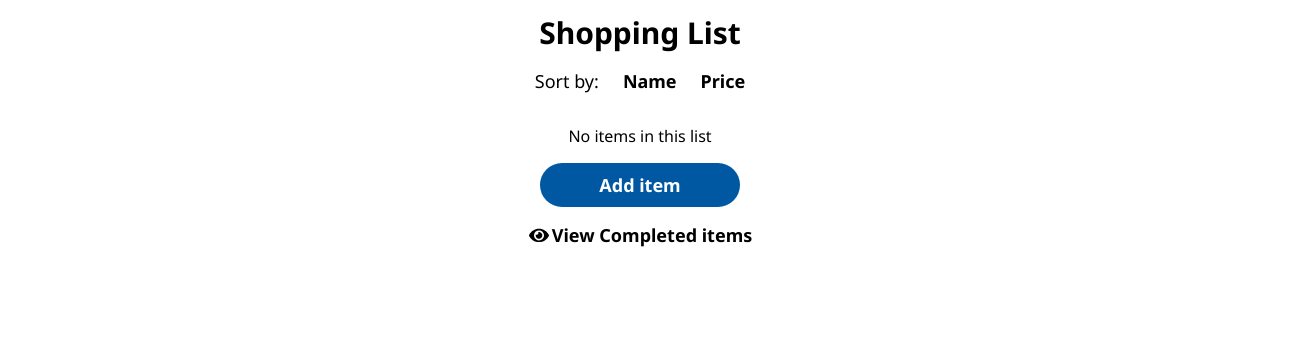
Verify that show completed items button, expands the completed list
This screenshot has width=1292, height=356.
Click the button "View Completed items": (640, 235) top-left (528, 223), bottom-right (752, 247)
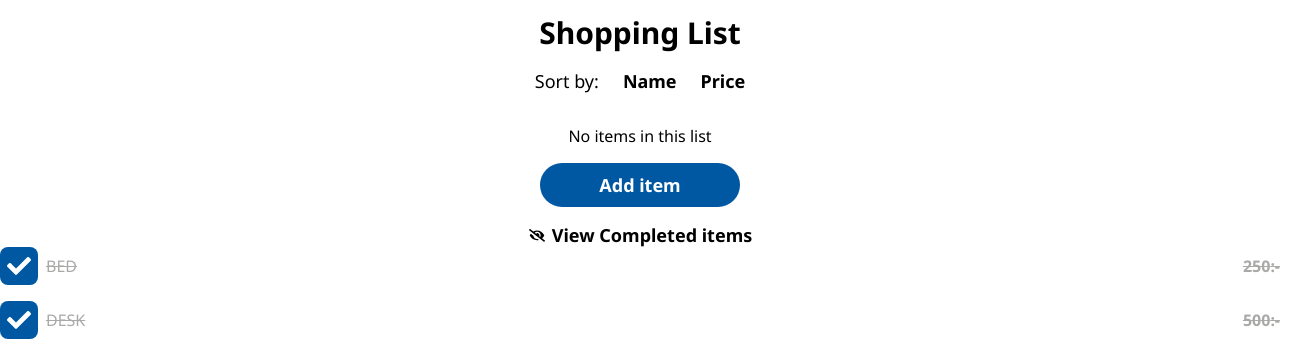
Expected: the element with test id "completed" showing "Bed 250:-" is shown, top-left (0, 247), bottom-right (1280, 285)
